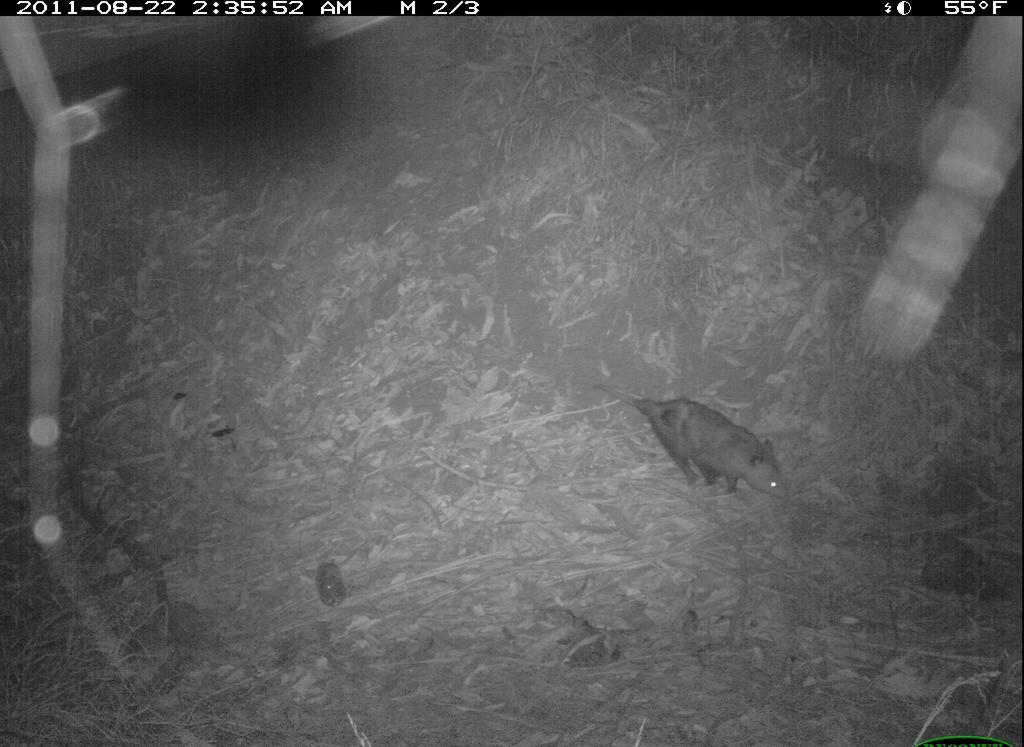opossum: (597, 370, 803, 509)
